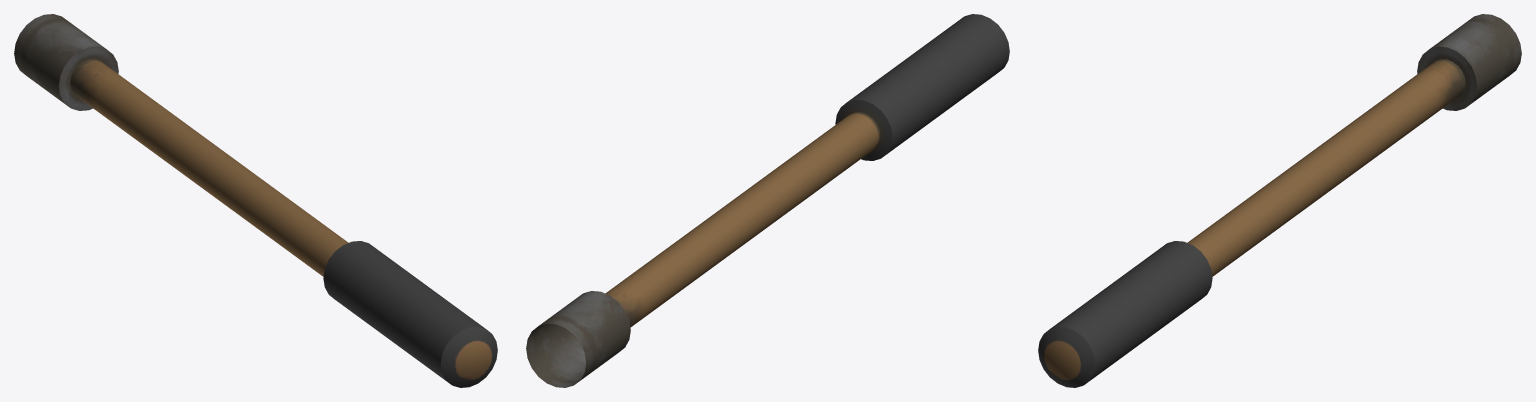
The model's file is Lever_Handle.glb.
3 renders of one model, left to right at view 1: azimuth 30°, elevation 25°; view 2: azimuth 150°, elevation 25°; view 3: azimuth 330°, elevation 25°, orthographic.
Visible parts, largest first — view 1: lever_dummy_material_0.001_0; view 2: lever_dummy_material_0.001_0; view 3: lever_dummy_material_0.001_0.
Boxes of the visible parts, x1,y1,x2,y2 form: lever_dummy_material_0.001_0: (14, 14, 497, 387); lever_dummy_material_0.001_0: (526, 14, 1009, 387); lever_dummy_material_0.001_0: (1038, 14, 1521, 387).
Bounding box in the file's own units: 0.0423 × 0.0423 × 0.5228.
1 material, 1 textured.
